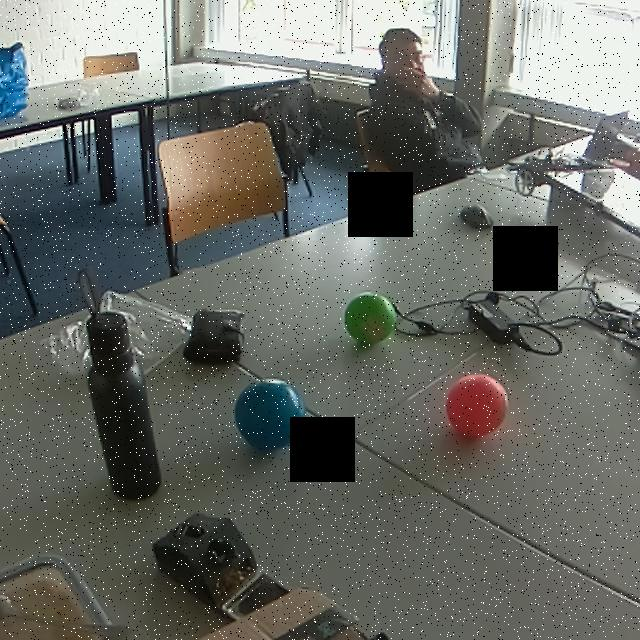ball: (230, 374, 307, 451), (442, 369, 510, 443), (342, 289, 398, 350)
